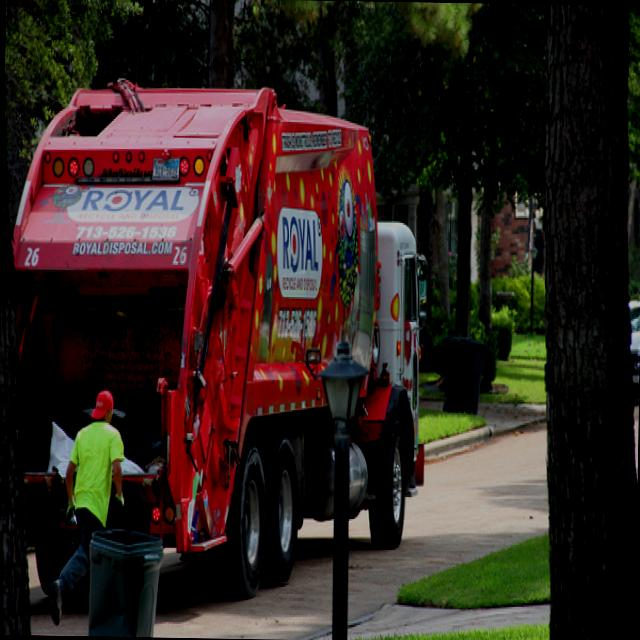Vehicle: (3, 80, 431, 608), (628, 294, 640, 404)
